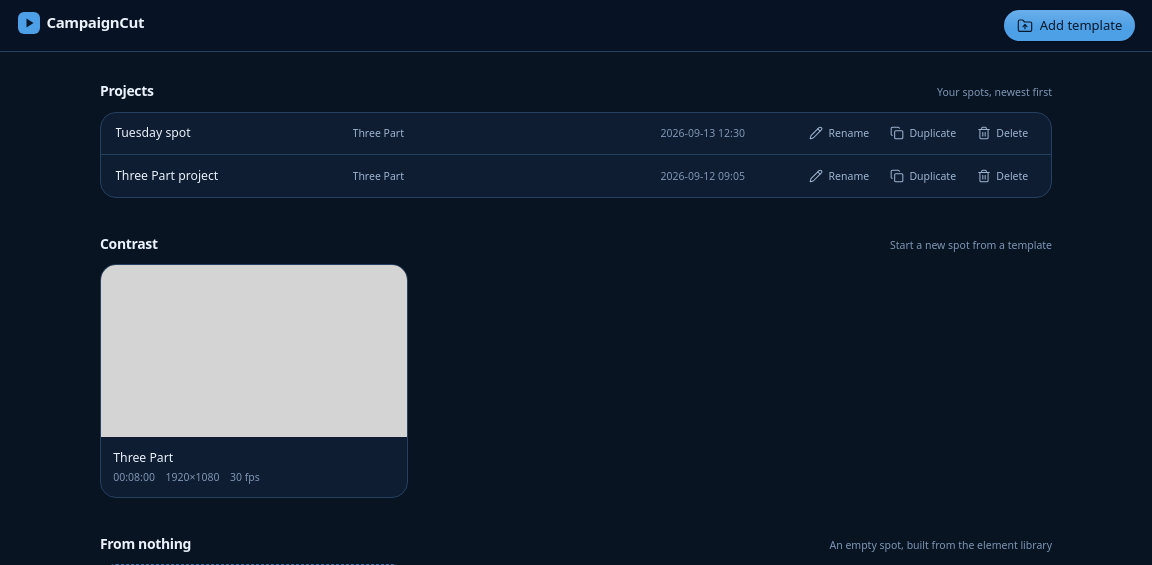
it: Library projects › renames a project in place
The width and height of the screenshot is (1152, 565).
Check: the button "Tuesday spot" is shown, box [115, 124, 338, 142]
Click the button with aria-label "Rename Tuesday spot". click: (839, 133)
box: [800, 121, 878, 145]
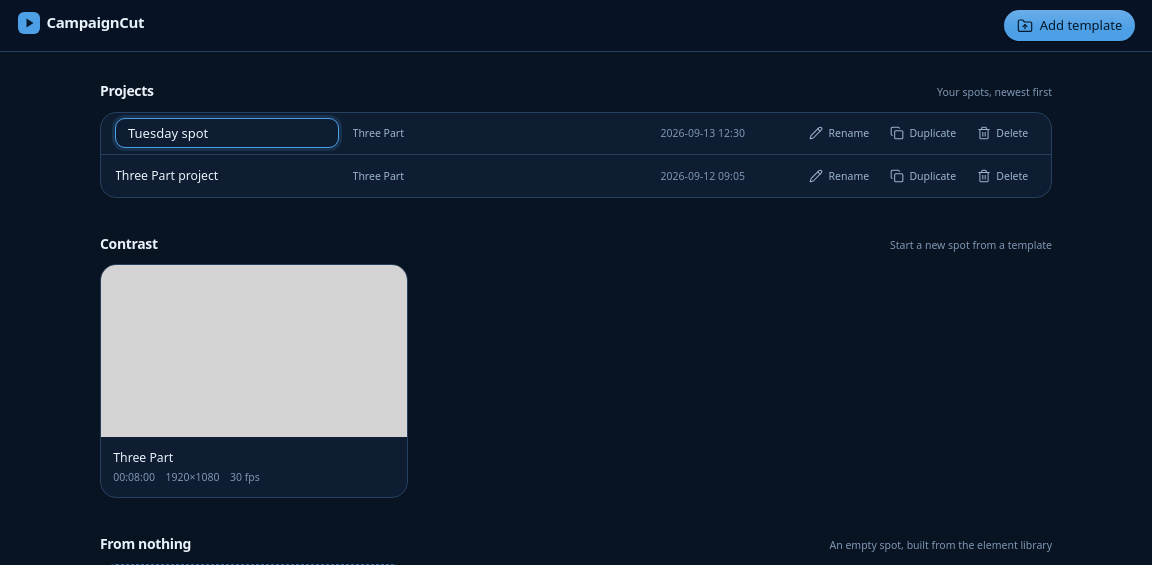
Replace the text in the field named "New name for Tuesday spot" with "Wednesday spot". click: (227, 133)
box: [115, 118, 338, 148]
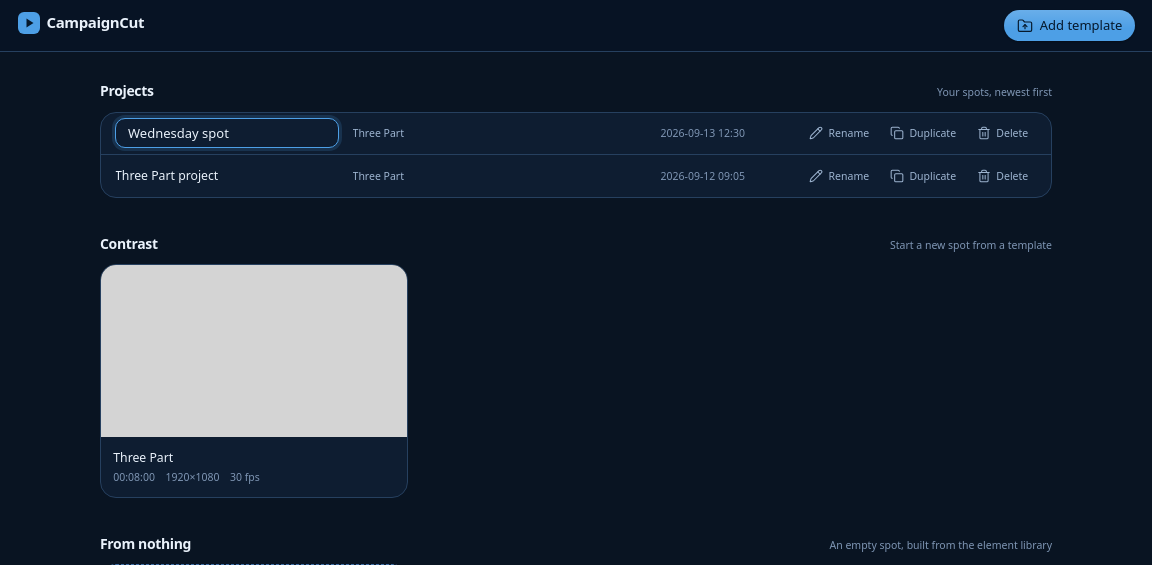
Press Enter in the field named "New name for Tuesday spot", box [115, 118, 338, 148]
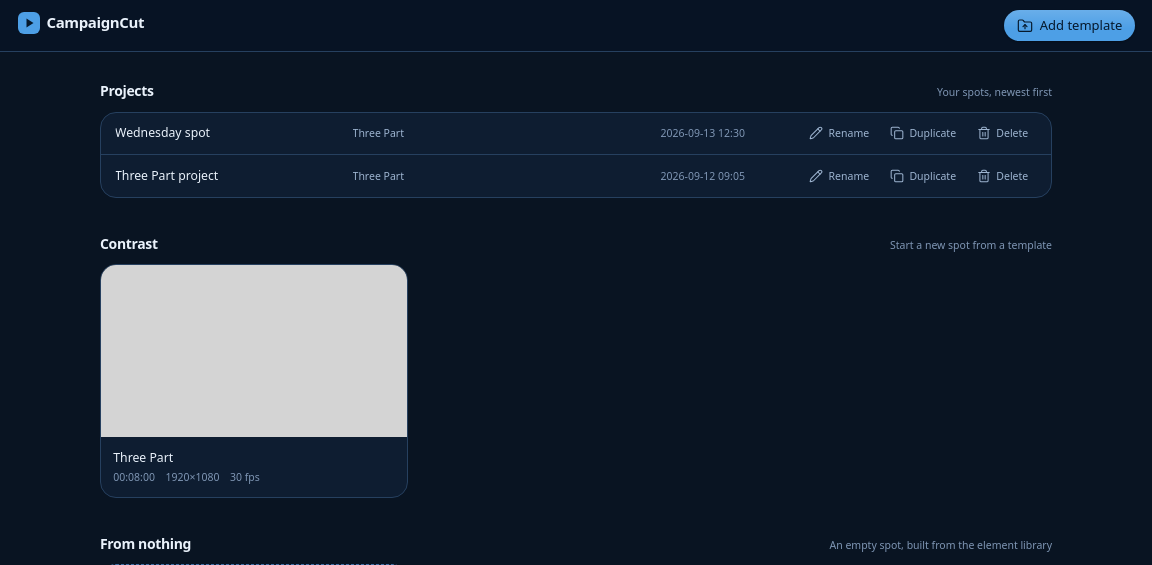
Check: the button "Wednesday spot" is shown, box [115, 124, 338, 142]
